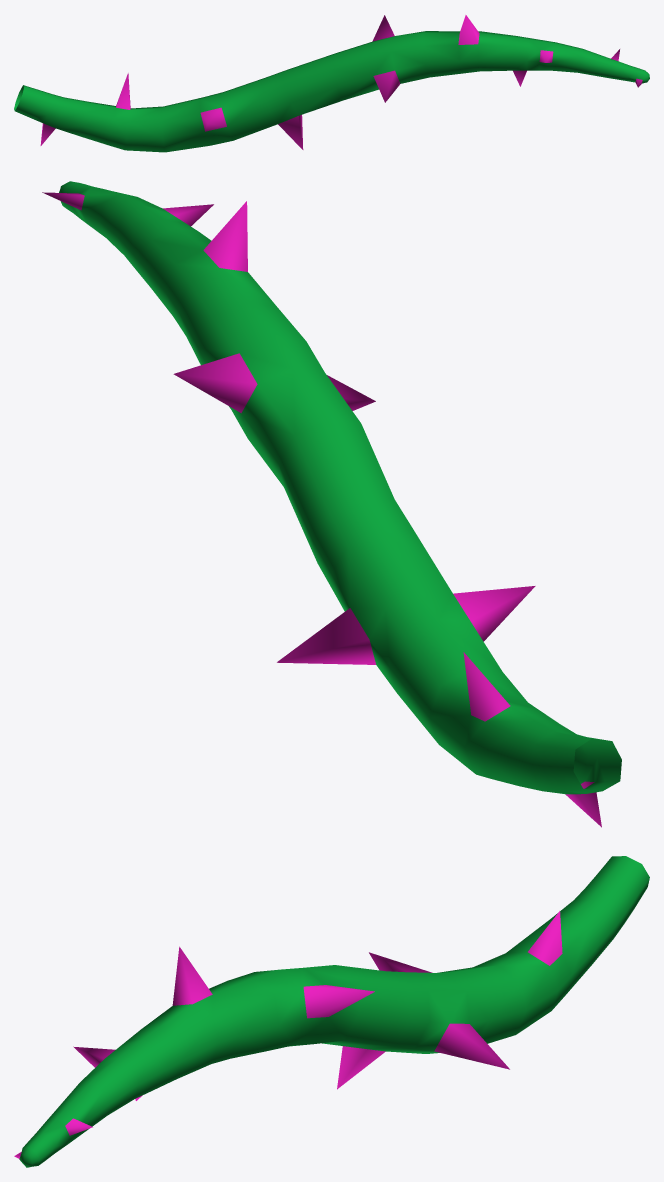
The model's file is revolving_door.fbx.
3 views of the same model, one above another, from view 1: azimuth 30°, elevation 25°; view 2: azimuth 150°, elevation 25°; view 3: azimuth 270°, elevation 25° (orthographic). The views are drawn at different scales.
Visible parts, largest first — view 1: Plane.000; view 2: Plane.000; view 3: Plane.000.
Part boxes in pixels (<box>): Plane.000: <box>14,15,649,152</box>; Plane.000: <box>42,181,621,827</box>; Plane.000: <box>14,856,649,1167</box>.
Bounding box in the file's own units: 156 × 50.39 × 113.
